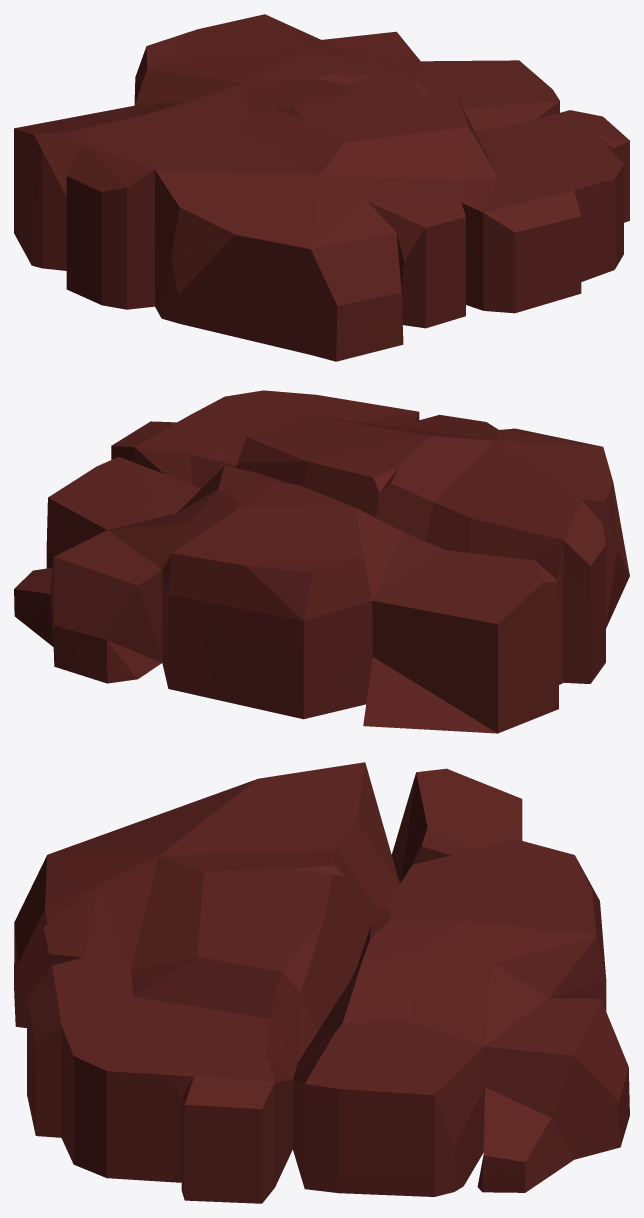
Rendered from Cliff_Tiled_Cup.fbx.
3 views of the same model, one above another, from view 1: azimuth 30°, elevation 25°; view 2: azimuth 150°, elevation 25°; view 3: azimuth 270°, elevation 25° (orthographic). The views are drawn at different scales.
Visible parts, largest first — view 1: SM_Env_Rock_Cliff_With_Hole_SoL.001; view 2: SM_Env_Rock_Cliff_With_Hole_SoL.001; view 3: SM_Env_Rock_Cliff_With_Hole_SoL.001.
Boxes of the visible parts, x1=… form: SM_Env_Rock_Cliff_With_Hole_SoL.001: x1=14, y1=14, x2=629, y2=361; SM_Env_Rock_Cliff_With_Hole_SoL.001: x1=14, y1=390, x2=629, y2=733; SM_Env_Rock_Cliff_With_Hole_SoL.001: x1=14, y1=762, x2=629, y2=1203.
Bounding box in the file's own units: 1478 × 395 × 1320.
